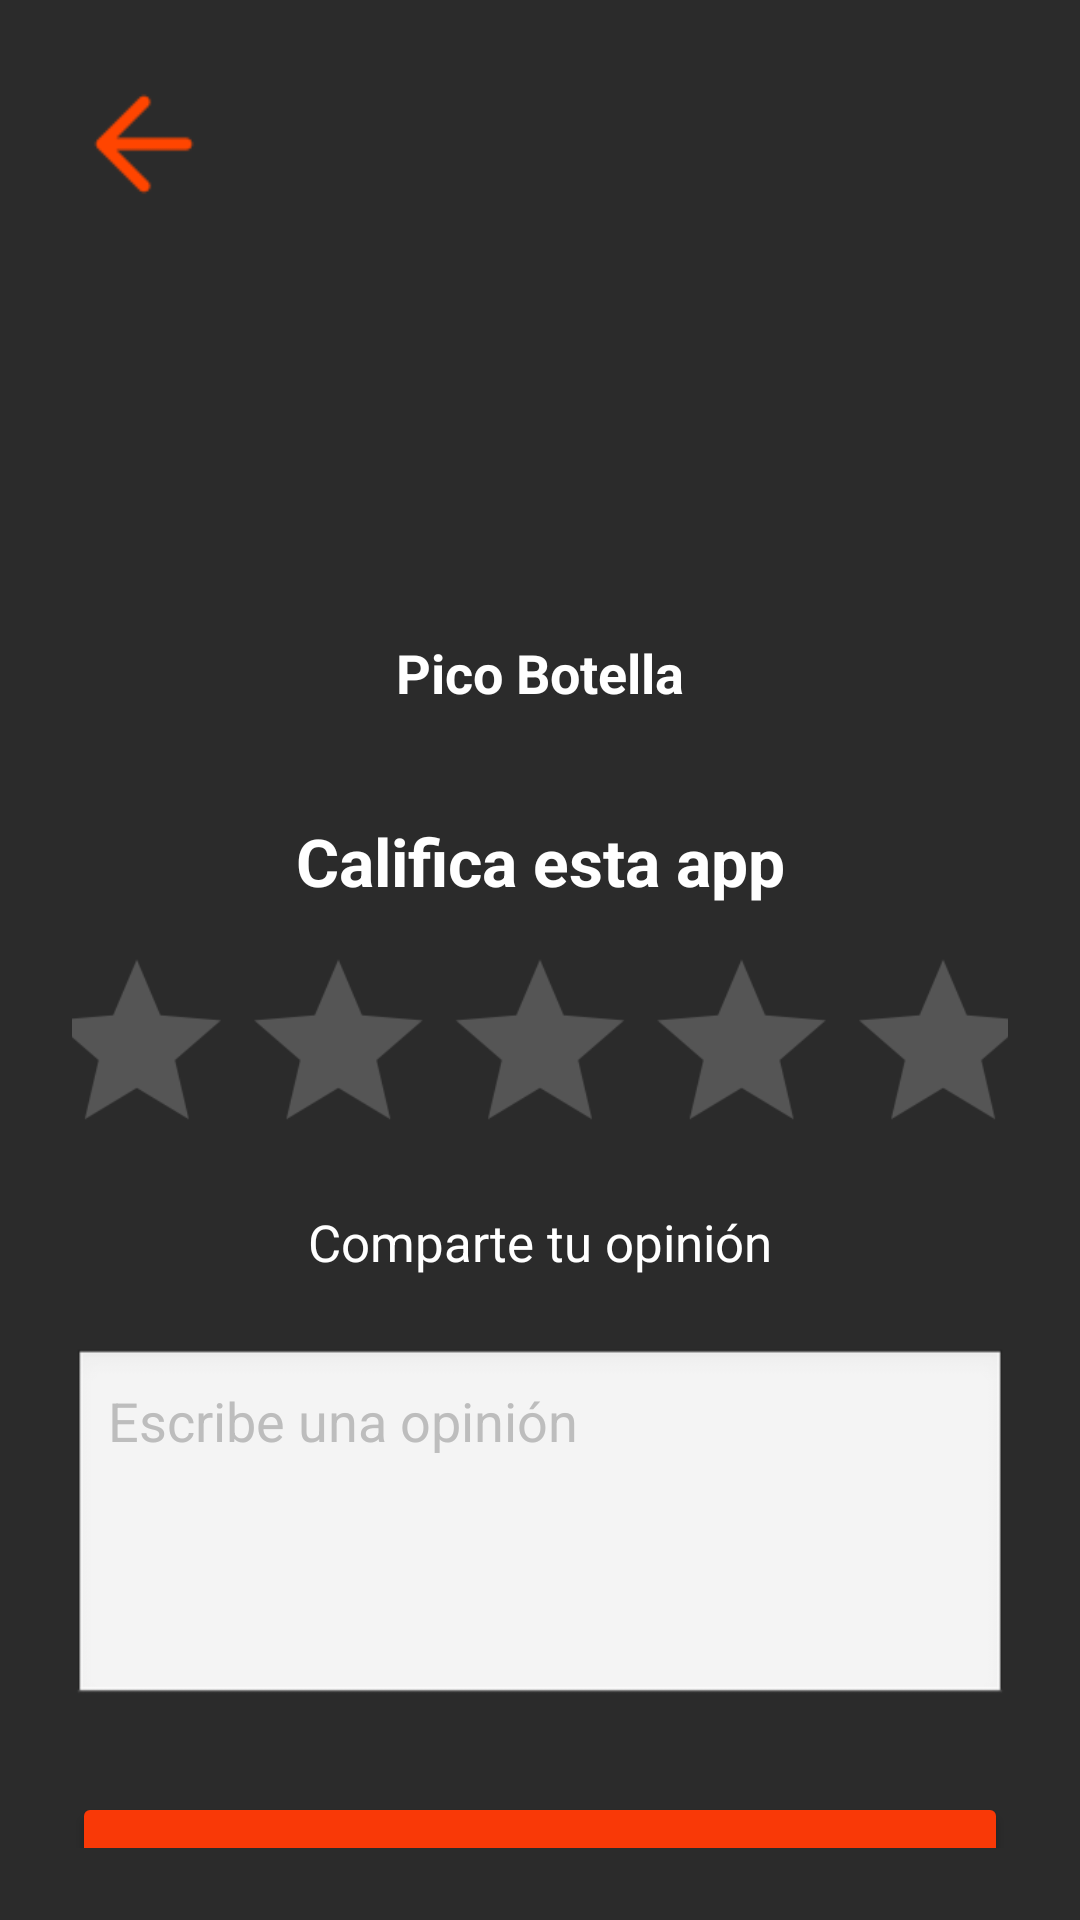

Named icons in this screenshot (1080px x 1920px) and their bounding boxes, {"x1": x1, "y1": y1, "x2": x2, "y2": y2}:
Volver: {"x1": 94, "y1": 94, "x2": 194, "y2": 194}
